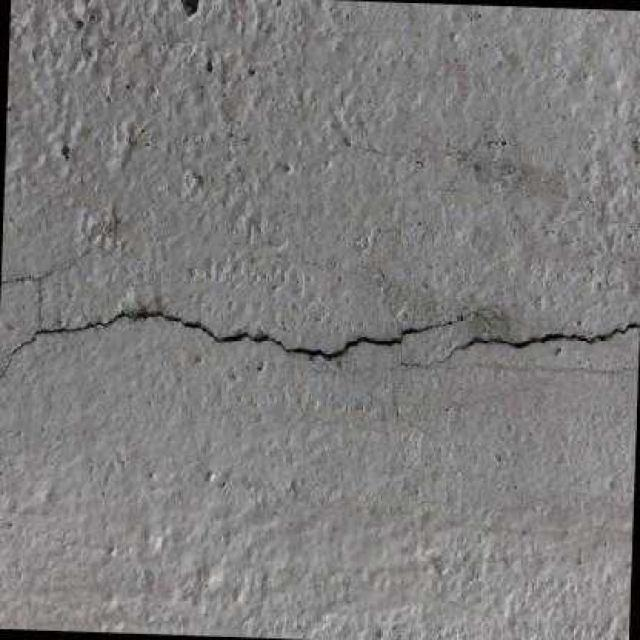D00: (0, 272, 489, 379), (400, 322, 636, 369)
